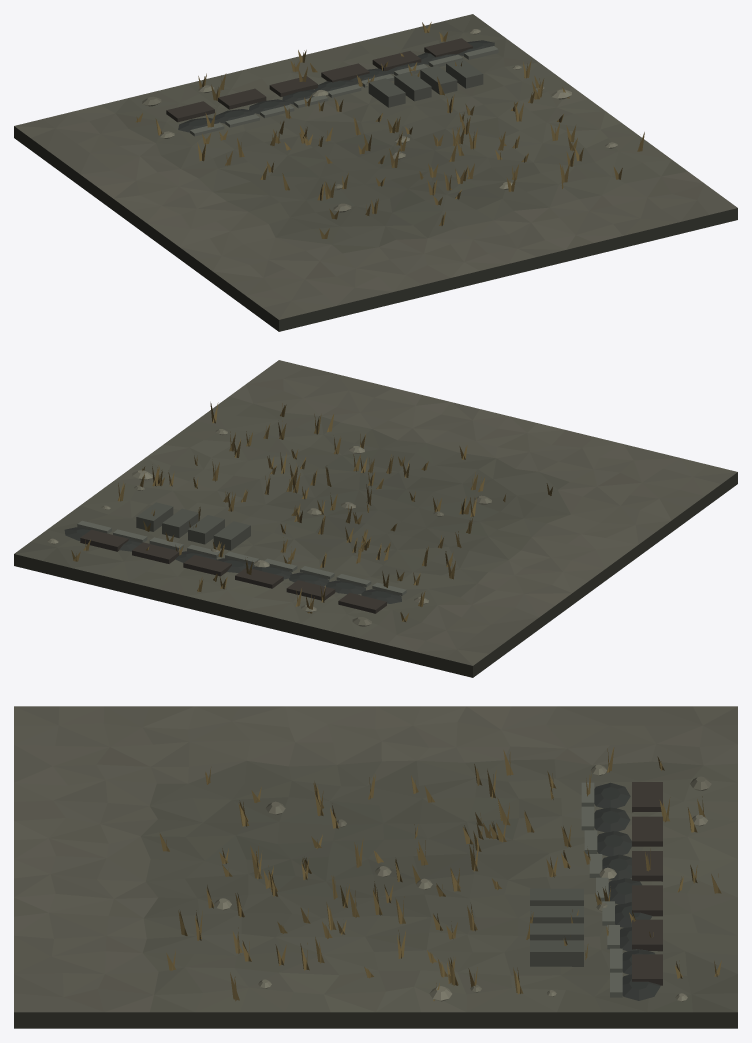
File: CHUNK_oath_battlefield__supply_trenches__10.glb
The picture shows the model from 3 angles, top to bottom: view 1: azimuth 30°, elevation 25°; view 2: azimuth 150°, elevation 25°; view 3: azimuth 270°, elevation 25°; orthographic projection. The views are drawn at different scales.
Visible parts, largest first — view 1: CHUNK_oath_battlefield__supply_trenches__10; view 2: CHUNK_oath_battlefield__supply_trenches__10; view 3: CHUNK_oath_battlefield__supply_trenches__10.
Part boxes in pixels (x1,y1,x2,y2): CHUNK_oath_battlefield__supply_trenches__10: (14, 14, 737, 331); CHUNK_oath_battlefield__supply_trenches__10: (14, 360, 737, 677); CHUNK_oath_battlefield__supply_trenches__10: (14, 706, 737, 1028).
Bounding box in the file's own units: 8 × 0.5652 × 8.
